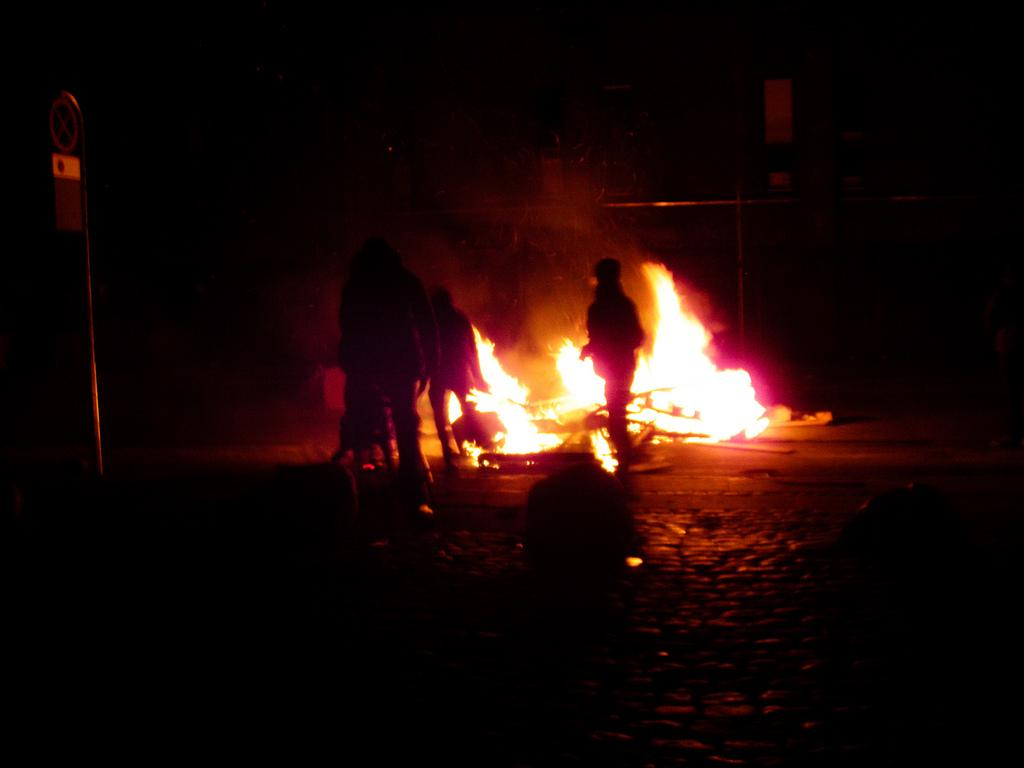fire: (654, 286, 736, 444), (484, 368, 542, 456)
